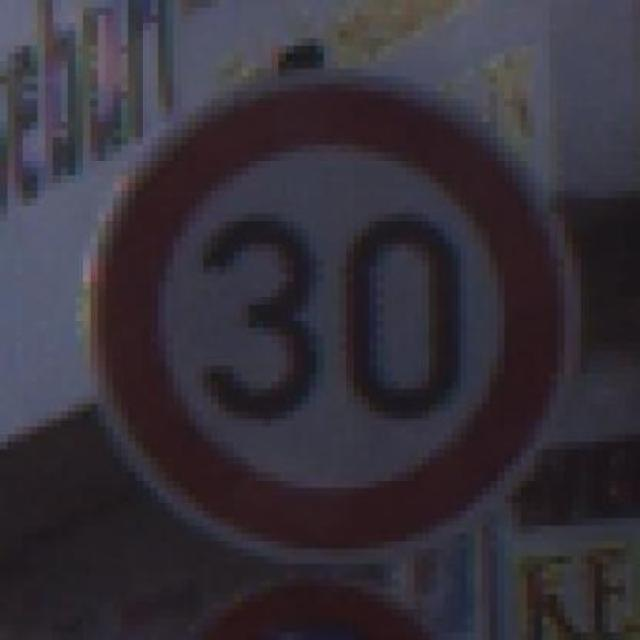Speed Limit 30 KMPh: (38, 53, 594, 533)
